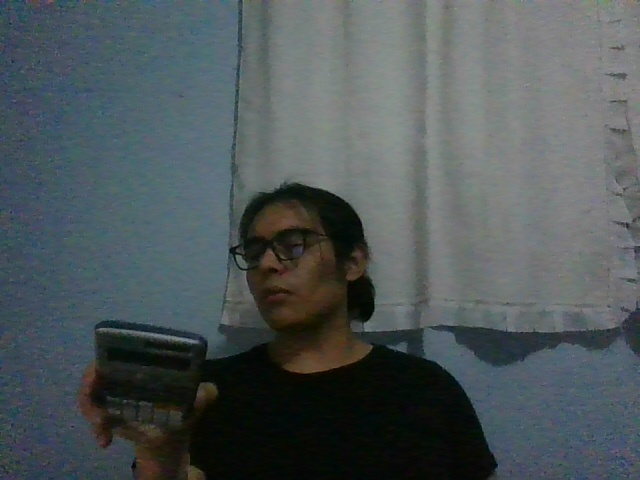calculadora: (93, 319, 208, 433)
